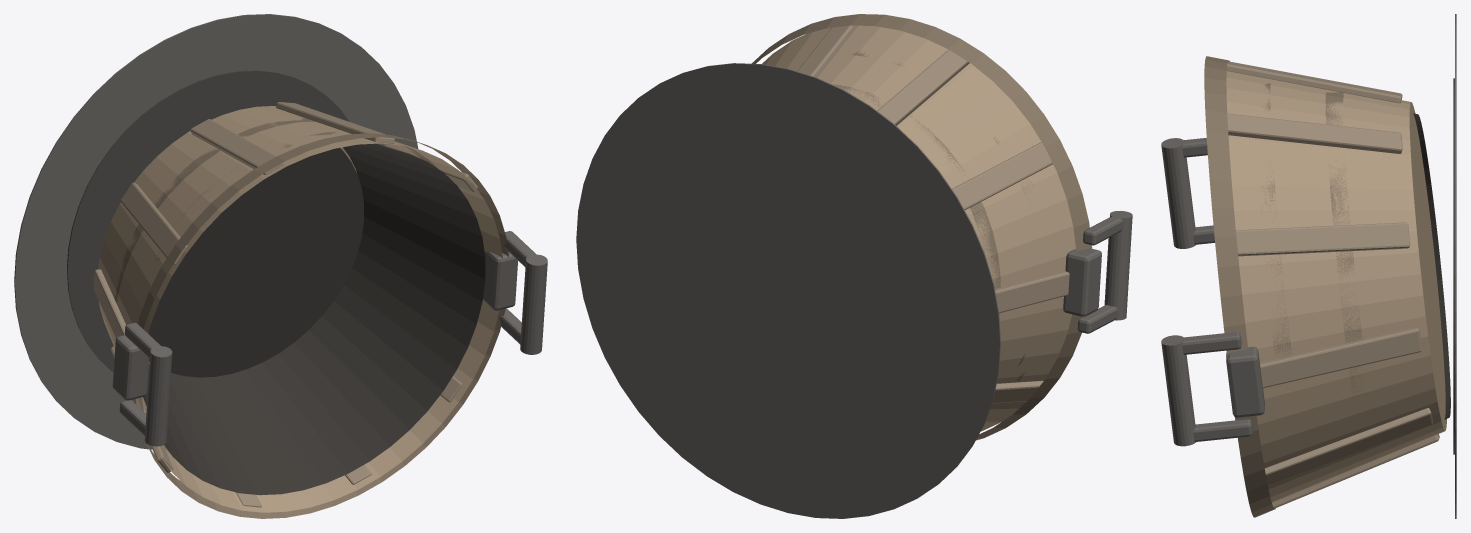
Rendered from BASKET.glb.
3 renders of one model, left to right at view 1: azimuth 30°, elevation 25°; view 2: azimuth 150°, elevation 25°; view 3: azimuth 270°, elevation 25°, orthographic. The views are drawn at different scales.
Parts seen in each view (by area): view 1: BASKET_wall_in, BASKET_ao, BASKET_floor, BASKET_wall_out, BASKET_ao_core, BASKET_rim, BASKET_hbar_-1, BASKET_hbar_1, BASKET_rib_4, BASKET_hmount_-1, BASKET_rib_3, BASKET_hmount_1 (+4 smaller); view 2: BASKET_ao, BASKET_wall_out, BASKET_rim, BASKET_rib_4, BASKET_rib_3, BASKET_hmount_-1, BASKET_hbar_-1, BASKET_rib_5, BASKET_band_lo, BASKET_rib_2, BASKET_rib_6, BASKET_hpost_b-1 (+1 smaller); view 3: BASKET_wall_out, BASKET_rim, BASKET_rib_1, BASKET_rib_0, BASKET_sole, BASKET_rib_2, BASKET_rib_9, BASKET_hbar_1, BASKET_hbar_-1, BASKET_hmount_1, BASKET_band_lo, BASKET_rib_3 (+9 smaller).
Boxes of the visible parts, left/top/right/bottom form: BASKET_wall_in: left=143, top=143, right=485, bottom=495; BASKET_ao: left=14, top=14, right=418, bottom=449; BASKET_floor: left=148, top=148, right=363, bottom=377; BASKET_wall_out: left=98, top=106, right=502, bottom=512; BASKET_ao_core: left=67, top=70, right=349, bottom=372; BASKET_rim: left=133, top=133, right=508, bottom=518; BASKET_hbar_-1: left=144, top=346, right=172, bottom=446; BASKET_hbar_1: left=520, top=254, right=547, bottom=354; BASKET_rib_4: left=120, top=182, right=187, bottom=264; BASKET_hmount_-1: left=112, top=335, right=148, bottom=400; BASKET_rib_3: left=190, top=119, right=283, bottom=174; BASKET_hmount_1: left=483, top=251, right=517, bottom=310; BASKET_ao: left=576, top=63, right=1000, bottom=518; BASKET_wall_out: left=762, top=25, right=1075, bottom=431; BASKET_rim: left=752, top=14, right=1092, bottom=440; BASKET_rib_4: left=952, top=142, right=1052, bottom=209; BASKET_rib_3: left=877, top=49, right=969, bottom=125; BASKET_hmount_-1: left=1063, top=248, right=1101, bottom=316; BASKET_hbar_-1: left=1104, top=211, right=1132, bottom=320; BASKET_rib_5: left=995, top=271, right=1069, bottom=313; BASKET_band_lo: left=832, top=84, right=1000, bottom=288; BASKET_rib_2: left=797, top=25, right=857, bottom=77; BASKET_rib_6: left=992, top=380, right=1043, bottom=403; BASKET_hpost_b-1: left=1083, top=215, right=1124, bottom=245; BASKET_wall_out: left=1226, top=71, right=1444, bottom=502; BASKET_rim: left=1204, top=56, right=1275, bottom=517; BASKET_rib_1: left=1236, top=222, right=1410, bottom=256; BASKET_rib_0: left=1260, top=327, right=1421, bottom=388; BASKET_sole: left=1409, top=102, right=1446, bottom=430; BASKET_rib_2: left=1227, top=113, right=1402, bottom=153; BASKET_rib_9: left=1264, top=408, right=1432, bottom=485; BASKET_hbar_1: left=1161, top=335, right=1195, bottom=446; BASKET_hbar_-1: left=1161, top=138, right=1195, bottom=248; BASKET_hmount_1: left=1226, top=346, right=1264, bottom=417; BASKET_band_lo: left=1325, top=92, right=1366, bottom=419; BASKET_rib_3: left=1226, top=61, right=1402, bottom=103.
Bounding box in the file's own units: 0.47 × 0.4706 × 0.2748.
